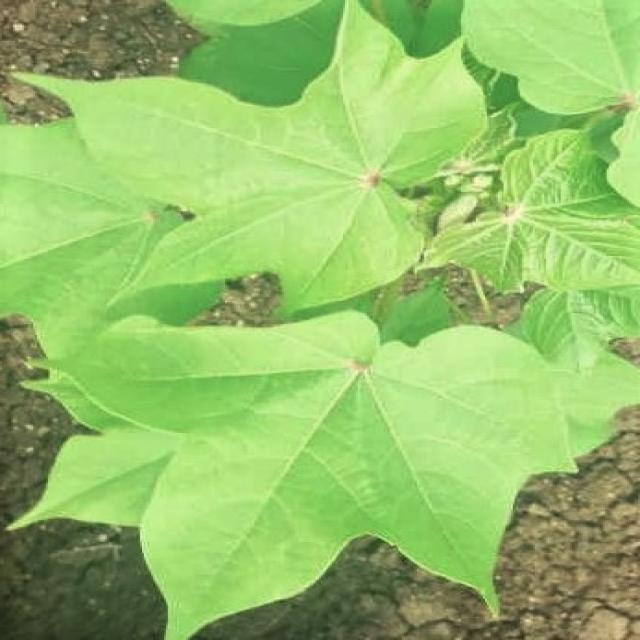Healthy Leaf: (74, 117, 640, 478)
